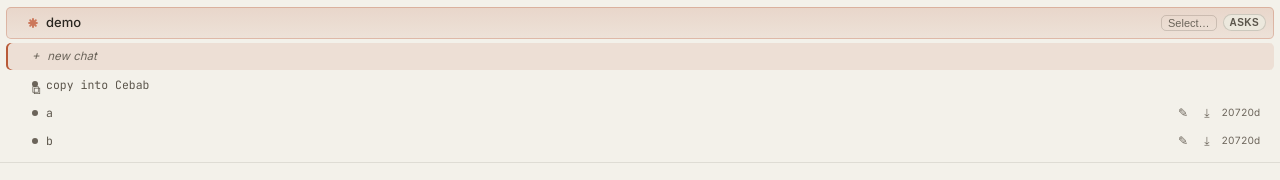
Test: ProjectList — selecting rows › clicking a row selects it + updates the count + enables ops
The width and height of the screenshot is (1280, 180).
Click the button with class "session-select-toggle" at [1189, 23], box [1161, 15, 1217, 31]
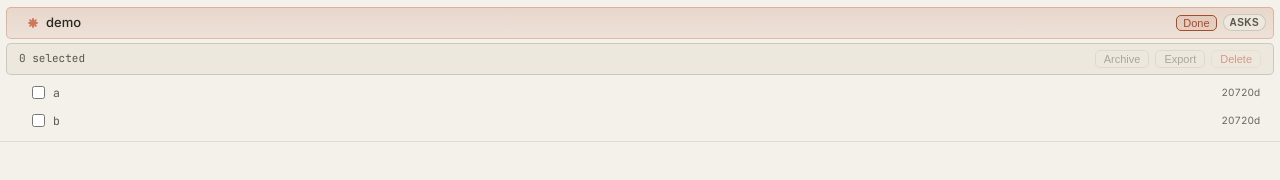
Click the list item with class "session-row" showing "a 20720d" at [640, 92], box [6, 78, 1274, 106]
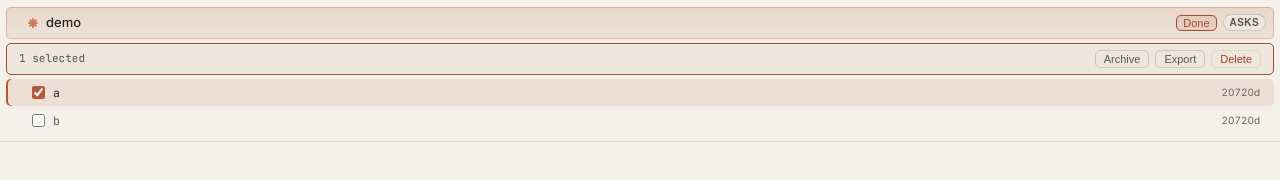
expect the text with class "bulk-action-count" reads "1 selected": met, box [19, 50, 85, 67]
expect the button with class "bulk-action-btn" showing "Archive" is enabled: met, box [1095, 50, 1149, 68]
Click the list item with class "session-row" showing "b 20720d" at [640, 120], box [6, 107, 1274, 134]
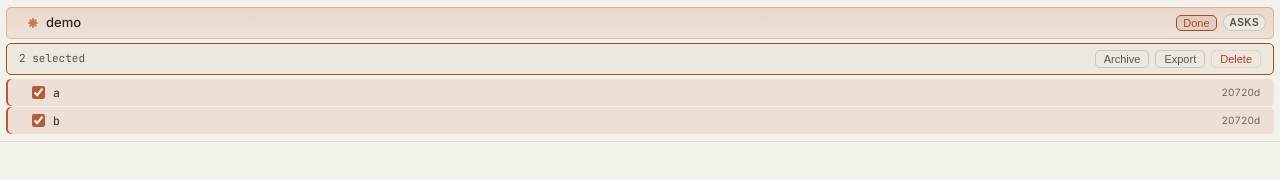
expect the text with class "bulk-action-count" reads "2 selected": met, box [19, 50, 85, 67]
Click the list item with class "session-row" showing "a 20720d" at [640, 92], box [6, 78, 1274, 106]
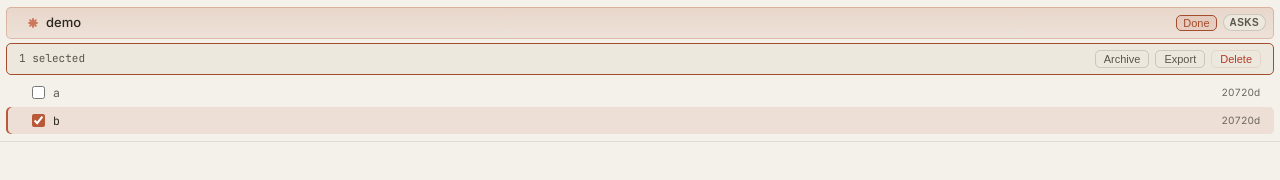
expect the text with class "bulk-action-count" reads "1 selected": met, box [19, 50, 85, 67]
